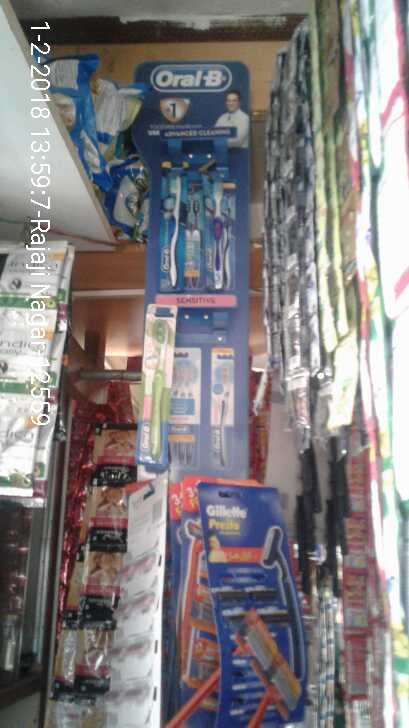oralb: (155, 158, 193, 298), (139, 307, 171, 459), (200, 155, 234, 296)
